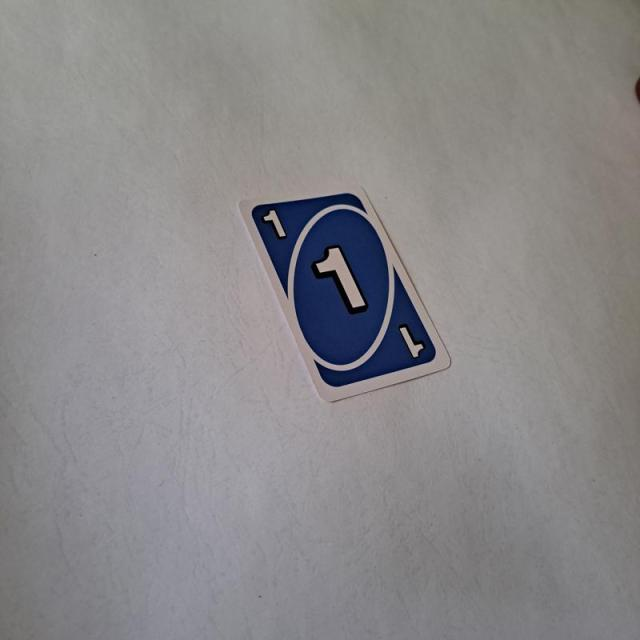Blue_Card: (248, 191, 447, 392)
Number_1: (260, 207, 293, 246)
